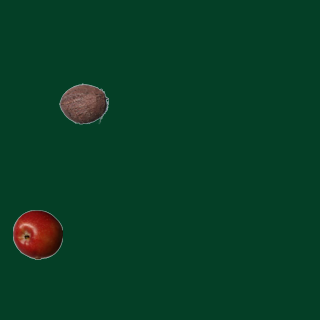Apple Braeburn: (12, 209, 62, 259)
Cocos: (58, 78, 108, 128)
